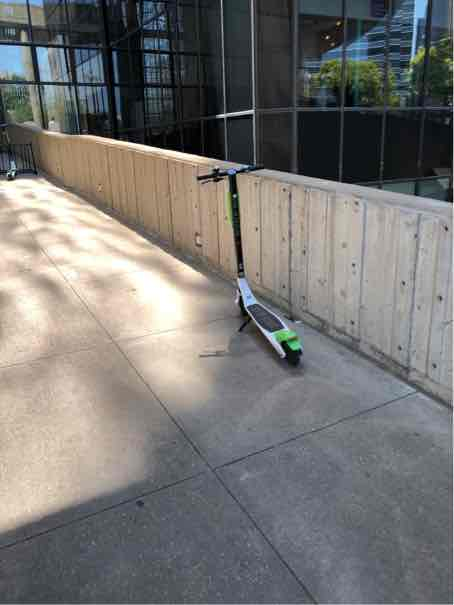scooter: (178, 148, 312, 376)
